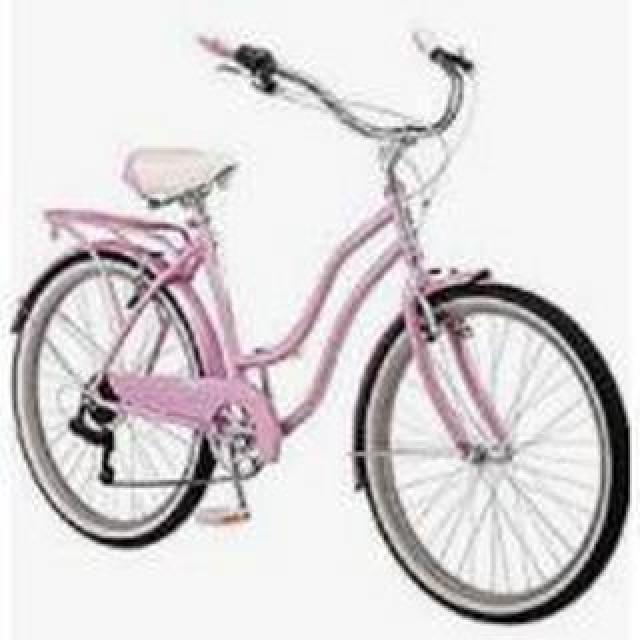Person: (10, 43, 626, 629)
